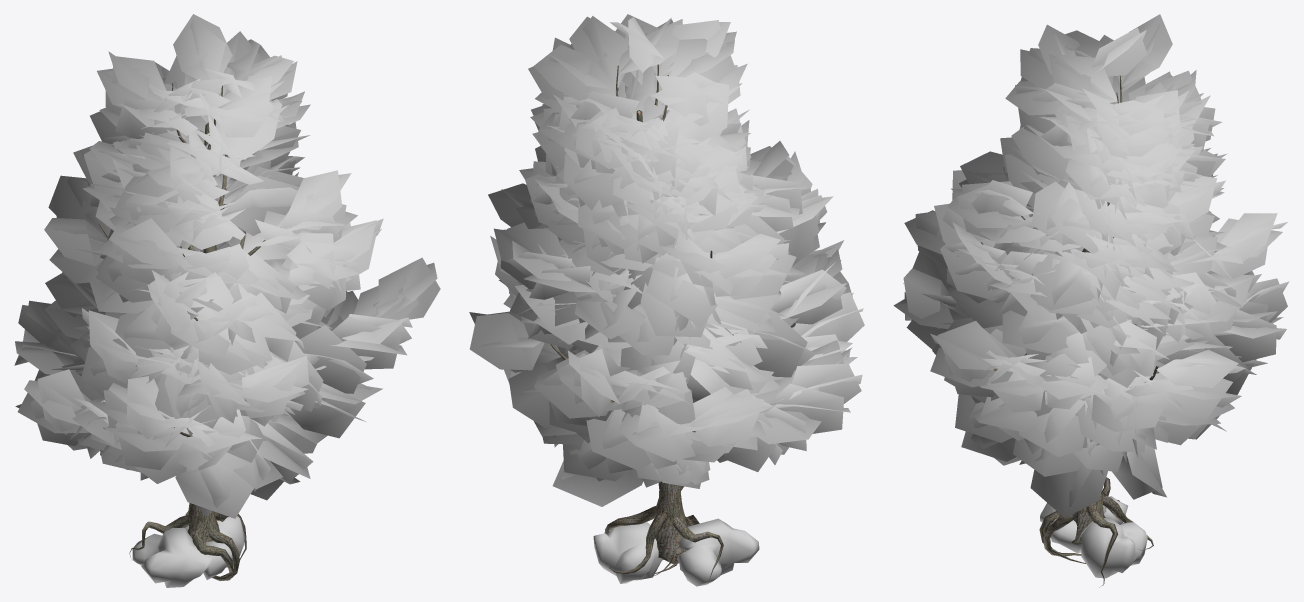
Rendered from Broadleaf_Low.fbx.
3 views of the same model, side by side, from view 1: azimuth 30°, elevation 25°; view 2: azimuth 150°, elevation 25°; view 3: azimuth 270°, elevation 25° (orthographic). The views are drawn at different scales.
Parts seen in each view (by area): view 1: Broadleaf_Low; view 2: Broadleaf_Low; view 3: Broadleaf_Low.
Part boxes in pixels (x1=…): Broadleaf_Low: x1=14, y1=14, x2=440, y2=587; Broadleaf_Low: x1=469, y1=14, x2=864, y2=586; Broadleaf_Low: x1=893, y1=14, x2=1289, y2=587.
Size of the model in its own units: 34.44 by 30.88 by 47.35.
